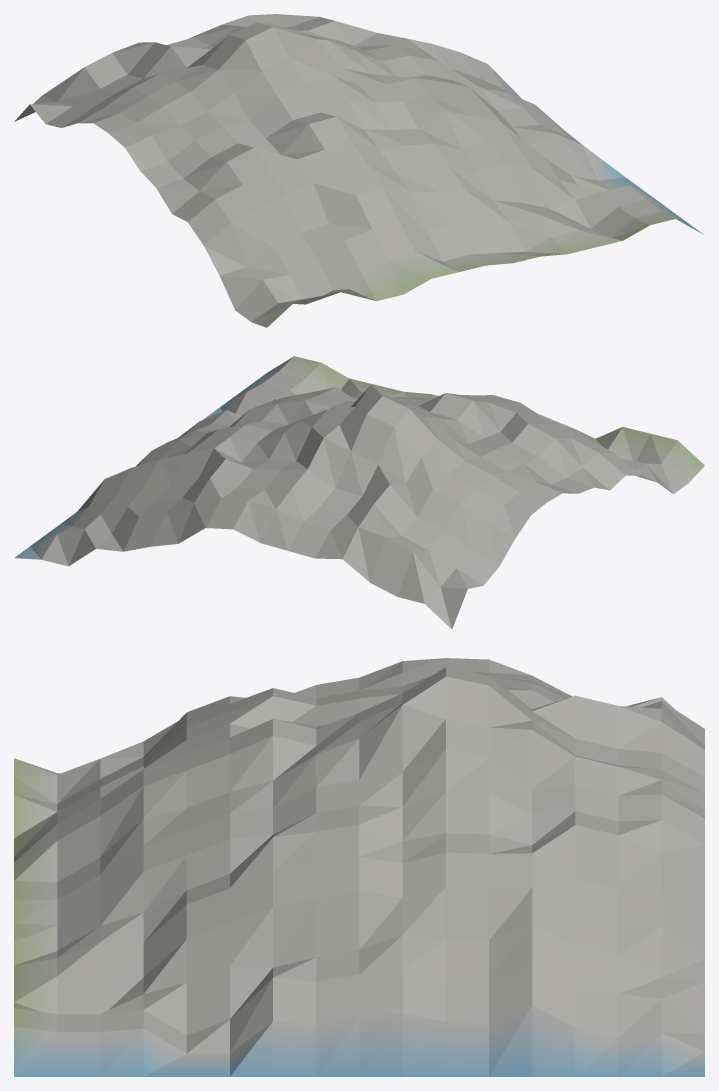
The picture shows the model from 3 angles, top to bottom: view 1: azimuth 30°, elevation 25°; view 2: azimuth 150°, elevation 25°; view 3: azimuth 270°, elevation 25°; orthographic projection. The views are drawn at different scales.
Bounding box in the file's own units: 32 × 11.13 × 32.
